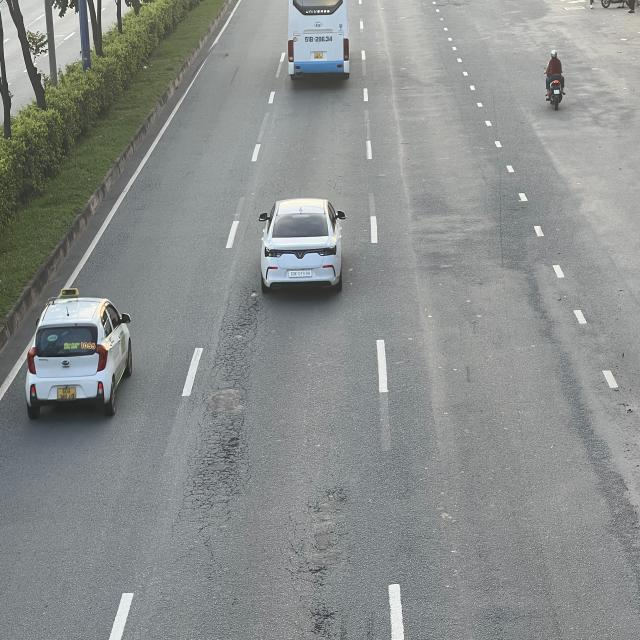car: (26, 294, 133, 418), (259, 198, 345, 294)
coach: (288, 0, 351, 79)
